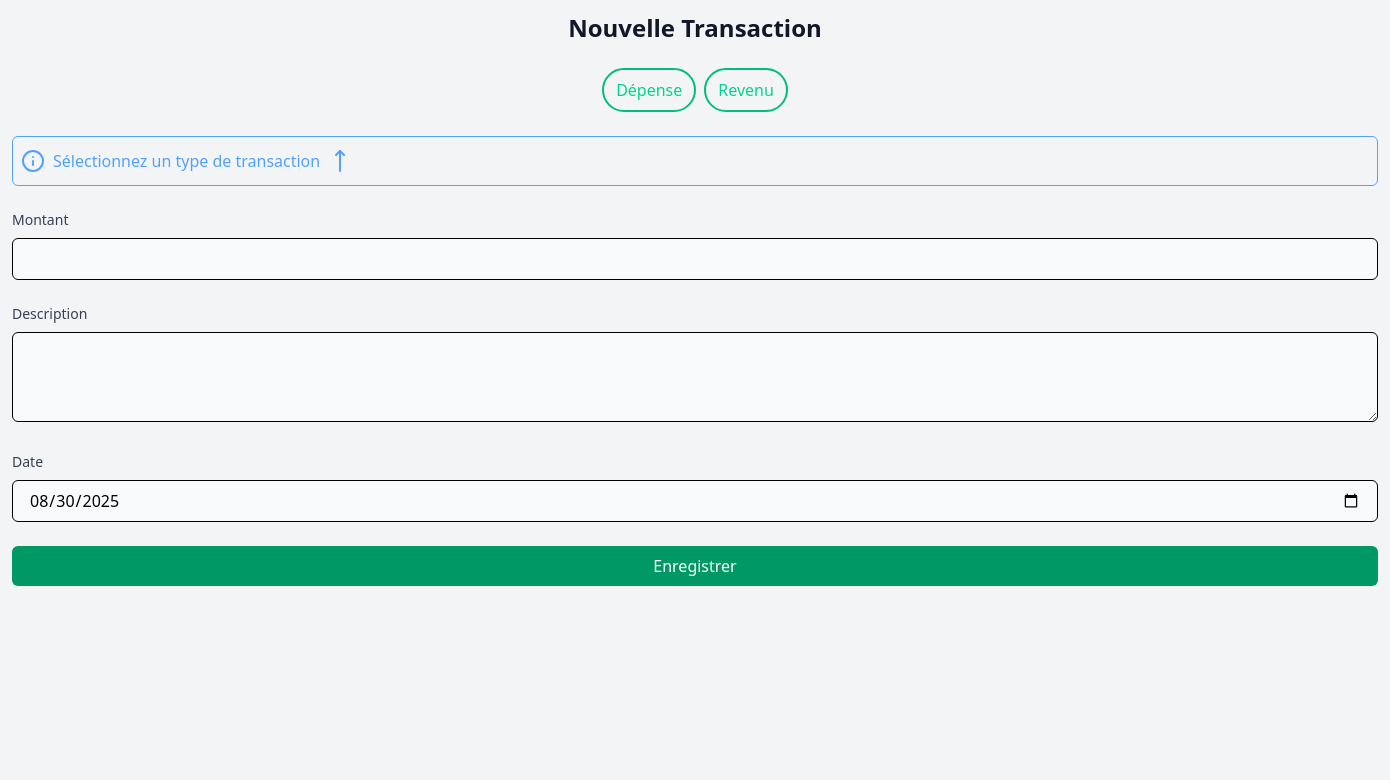
Test: TransactionForm › si l’API catégories échoue, seules les catégories par défaut sont présentes
This screenshot has width=1390, height=780.
Click the text "Revenu" at (746, 90), box [704,68,788,112]
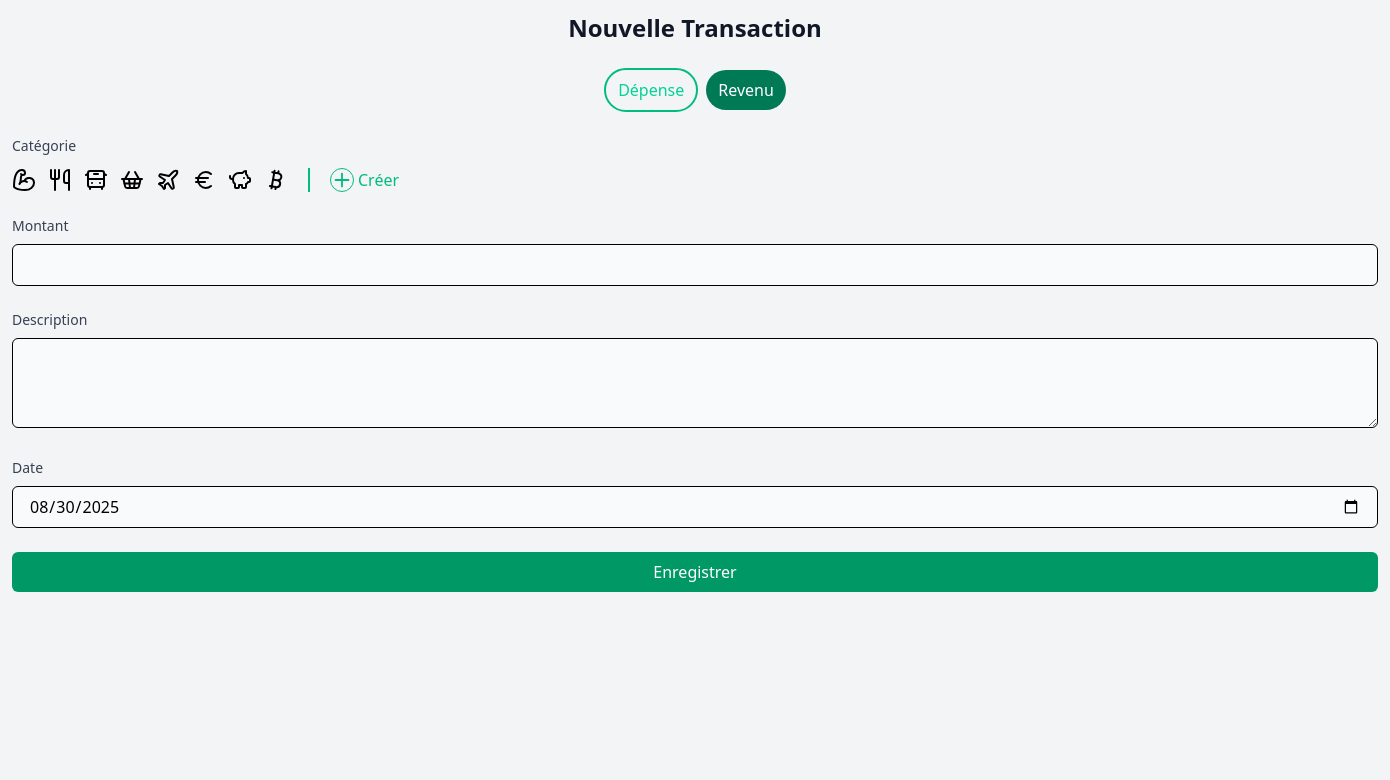
Now the text "Catégorie" is shown, box [12,136,76,155]
